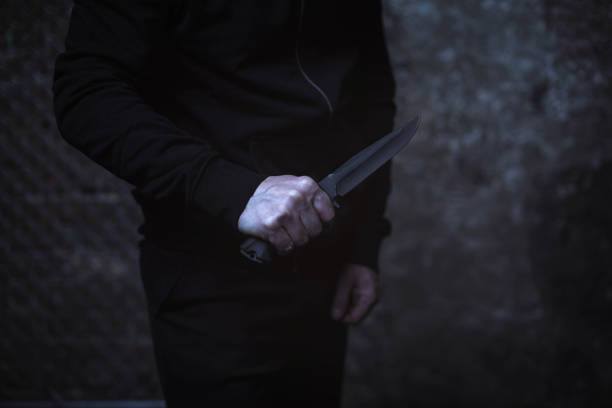knife: (236, 110, 422, 266)
